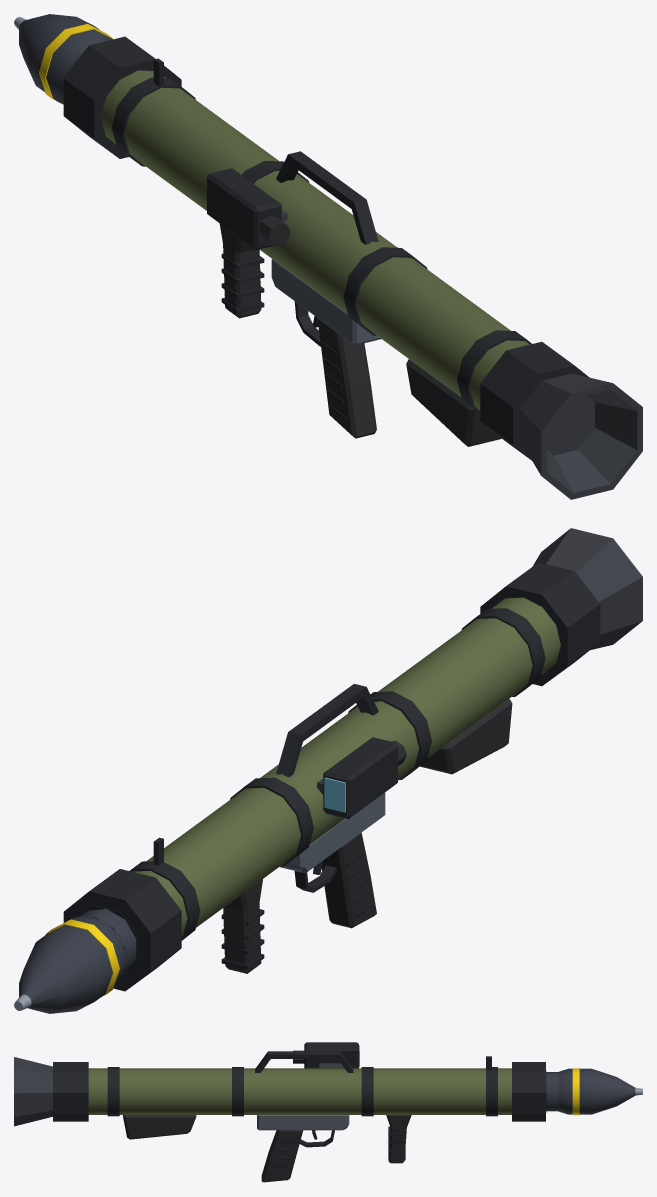
Rendered from rocket_launcher.glb.
3 renders of one model, top to bottom at view 1: azimuth 30°, elevation 25°; view 2: azimuth 150°, elevation 25°; view 3: azimuth 270°, elevation 25°, orthographic. The views are drawn at different scales.
Parts seen in each view (by area): view 1: Body, Mag; view 2: Body, Mag; view 3: Body, Mag.
Boxes of the visible parts, x1,y1,x2,y2 form: Body: [63, 36, 642, 499]; Mag: [14, 14, 112, 104]; Body: [63, 528, 642, 991]; Mag: [14, 908, 136, 1013]; Body: [14, 1042, 546, 1182]; Mag: [546, 1068, 642, 1115].
Bounding box in the file's own units: 0.1567 × 0.2816 × 1.26.
